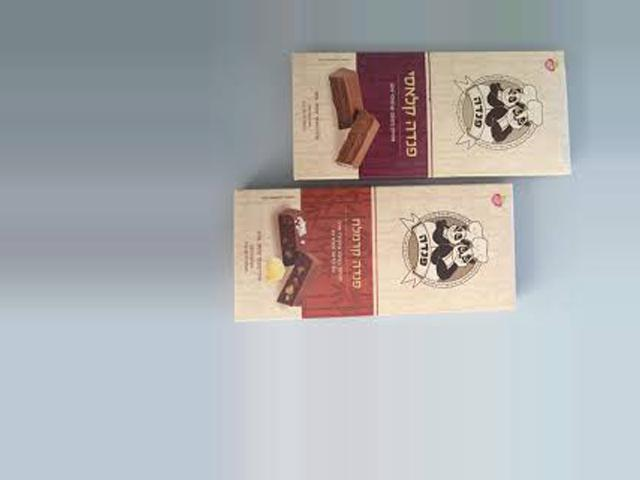chocolate: (225, 154, 527, 324)
